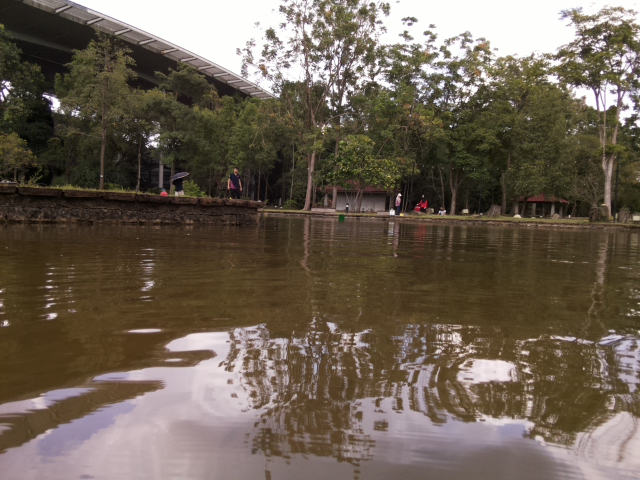obstacle: (338, 214, 346, 223)
